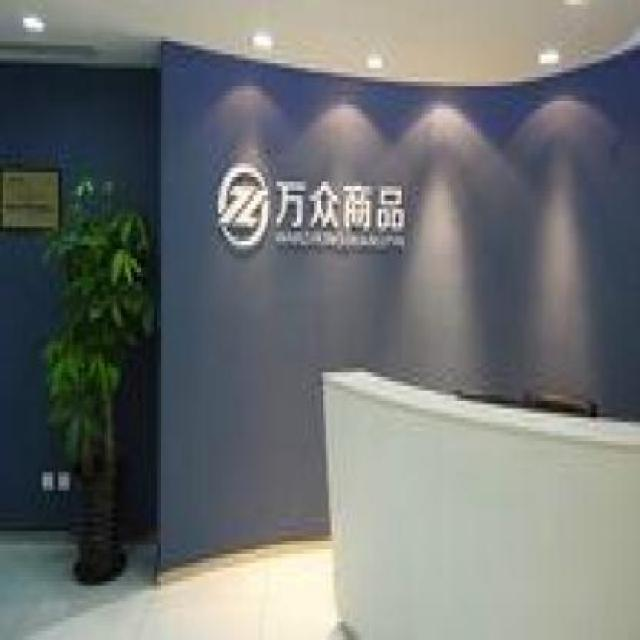frontdesk: (309, 354, 640, 640)
